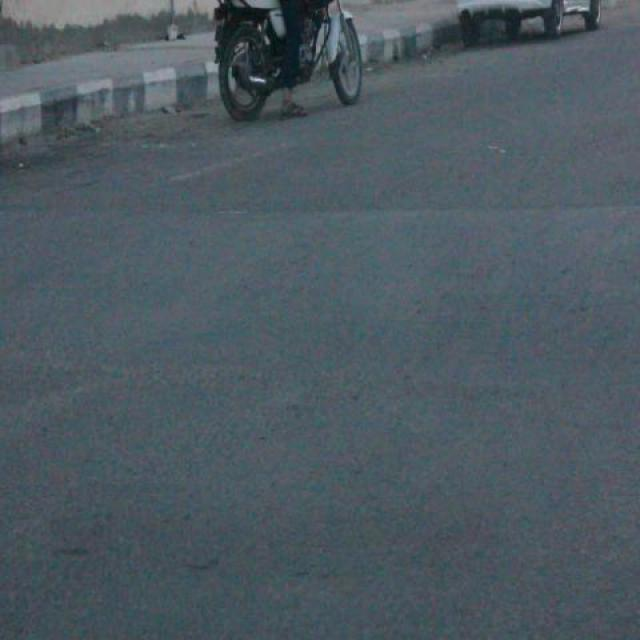Unmarked Bump: (0, 204, 640, 398)
